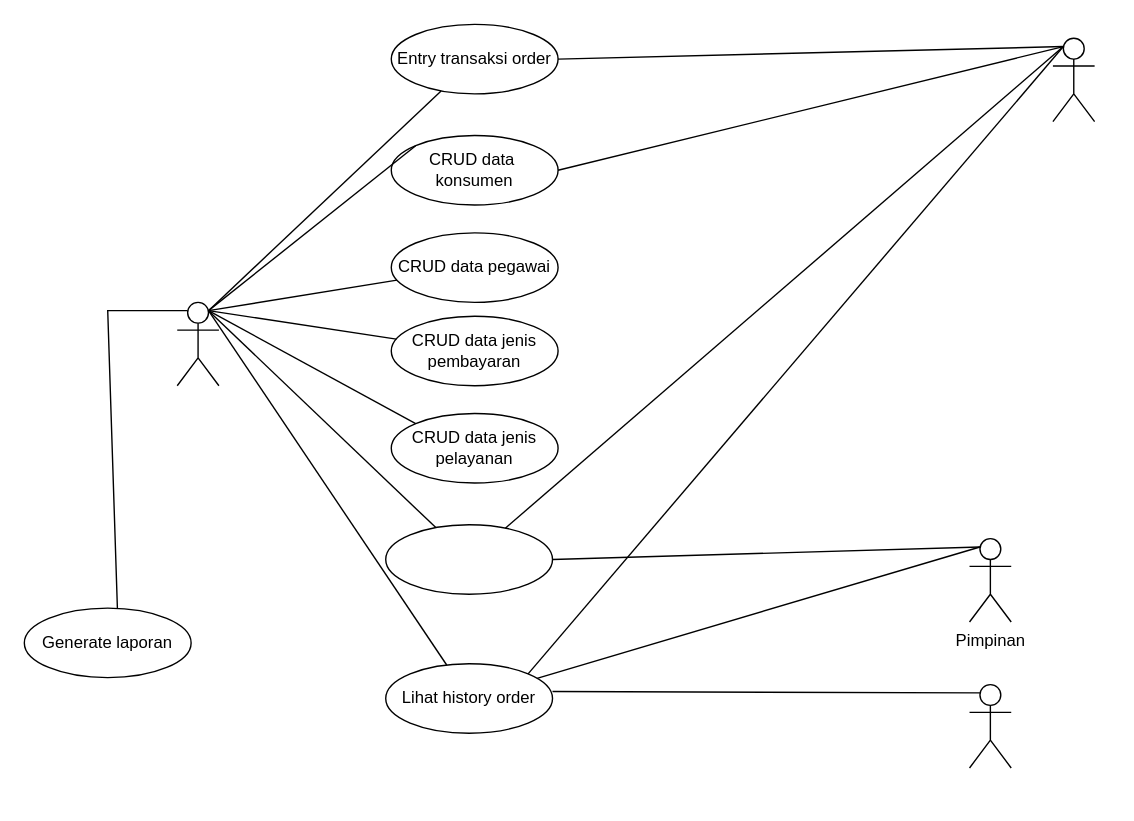
The diagram is 1134 pixels wide and 821 high, and some of its shapes have lost their labels. The shapes that lost their labels are listed below. From the top down, each one's centre as x and y in pixels, then its label:
point (1073, 79): Karyawan
point (197, 343): Administrator
point (468, 558): Login/Logout
point (989, 725): Konsumen
